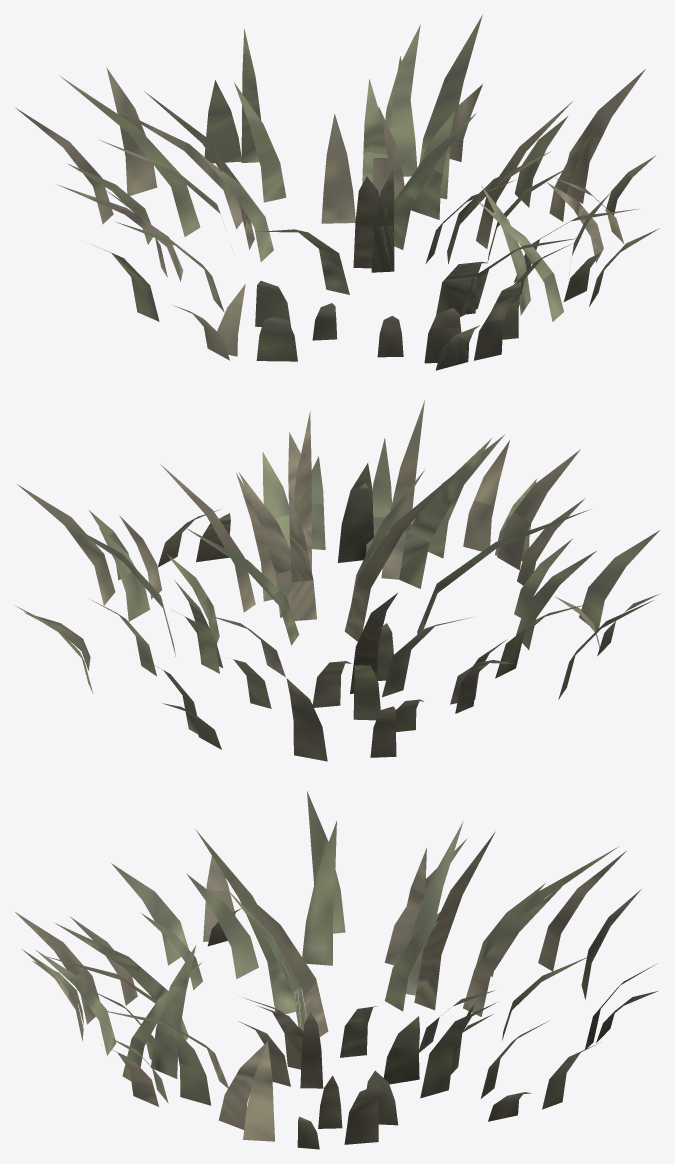
Rendered from grass_tuft_dry_02.glb.
3 views of the same model, one above another, from view 1: azimuth 30°, elevation 25°; view 2: azimuth 150°, elevation 25°; view 3: azimuth 270°, elevation 25° (orthographic). The views are drawn at different scales.
Parts seen in each view (by area): view 1: grass_tuft_dry_02; view 2: grass_tuft_dry_02; view 3: grass_tuft_dry_02.
Part boxes in pixels (bbox=[...]): grass_tuft_dry_02: bbox=[16, 15, 659, 370]; grass_tuft_dry_02: bbox=[14, 400, 660, 761]; grass_tuft_dry_02: bbox=[14, 791, 657, 1149].
Size of the model in its own units: 0.7261 by 0.166 by 0.6868.
Materials: 1 (1 with a texture image).
